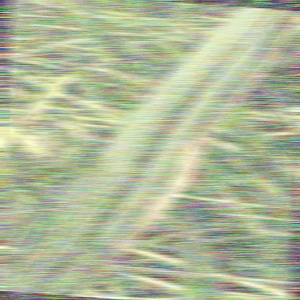Leaf_Blast: (93, 34, 233, 269)
